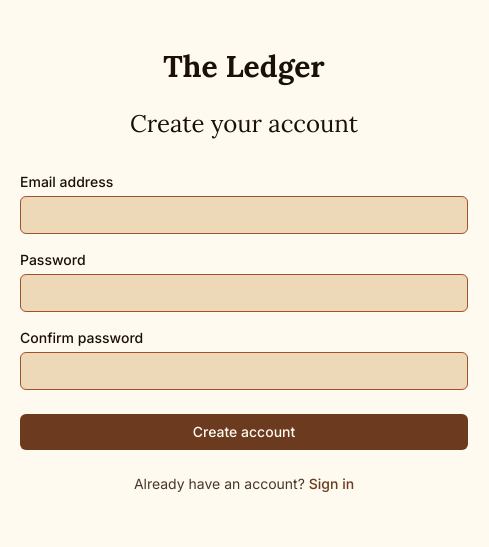
RegisterPage › should validate password confirmation
This screenshot has width=489, height=547.
Type "test@example.com" into the field labelled "Email address".
click(244, 215); type("test@example.com")  # box x1=20 y1=196 x2=468 y2=234
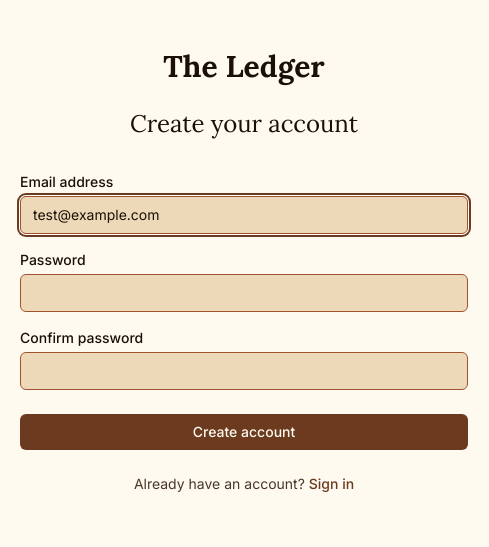
Type "password123" into the password field labelled "Password".
click(244, 293); type("password123")  # box x1=20 y1=274 x2=468 y2=312
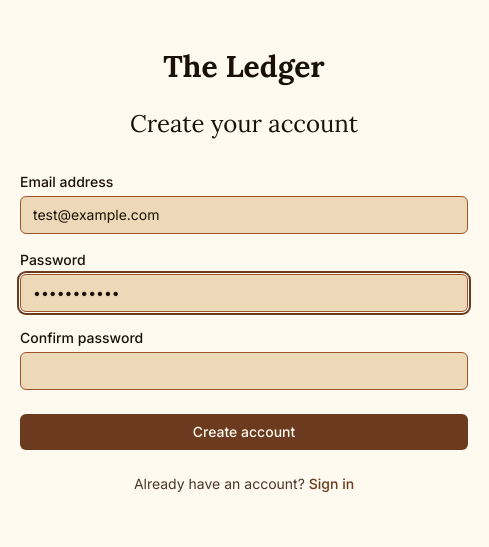
Type "different123" into the password field labelled "Confirm password".
click(244, 371); type("different123")  # box x1=20 y1=352 x2=468 y2=390
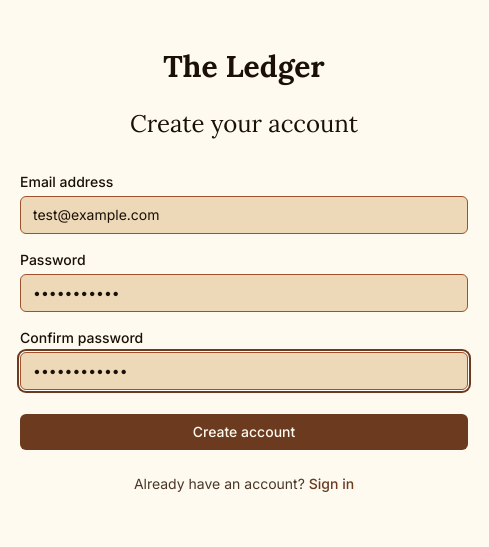
Click the button "Create account".
click(244, 432)  # box x1=20 y1=414 x2=468 y2=450
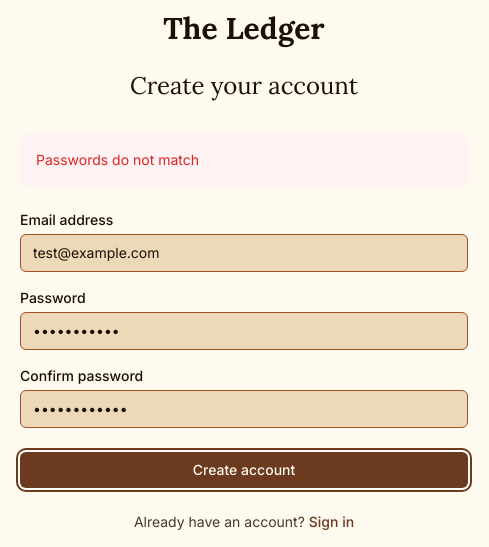
Expected: the text "Passwords do not match" is shown, x1=20 y1=134 x2=468 y2=186
